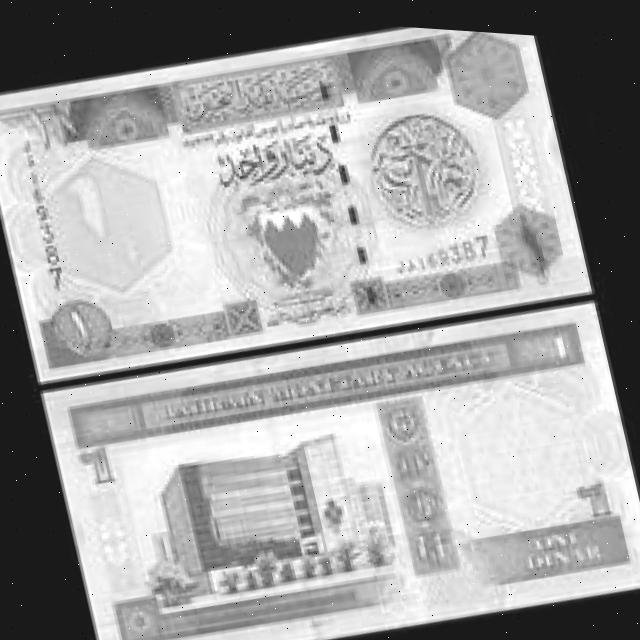banknote: (0, 0, 592, 410), (36, 262, 640, 640)
